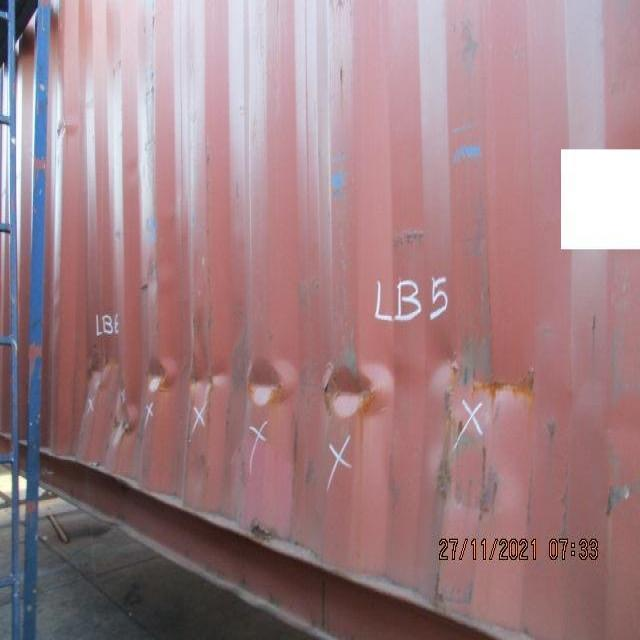dent: (72, 297, 576, 531)
